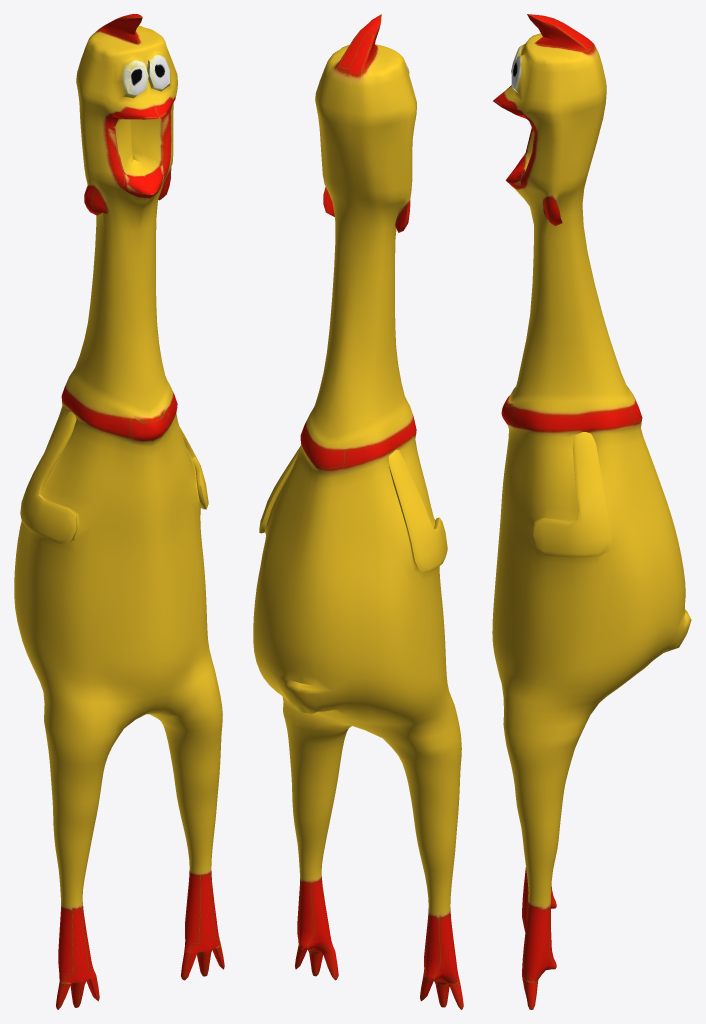
Rendered from Rubberchicken.glb.
3 views of the same model, side by side, from view 1: azimuth 30°, elevation 25°; view 2: azimuth 150°, elevation 25°; view 3: azimuth 270°, elevation 25° (orthographic).
Visible parts, largest first — view 1: pCylinder2; view 2: pCylinder2; view 3: pCylinder2.
Part boxes in pixels (left/top/right/bottom): pCylinder2: left=14, top=14, right=224, bottom=1009; pCylinder2: left=253, top=14, right=463, bottom=1009; pCylinder2: left=492, top=14, right=691, bottom=1009.
Bounding box in the file's own units: 0.0159 × 0.0857 × 0.0161.
Materials: 1 (1 with a texture image).
